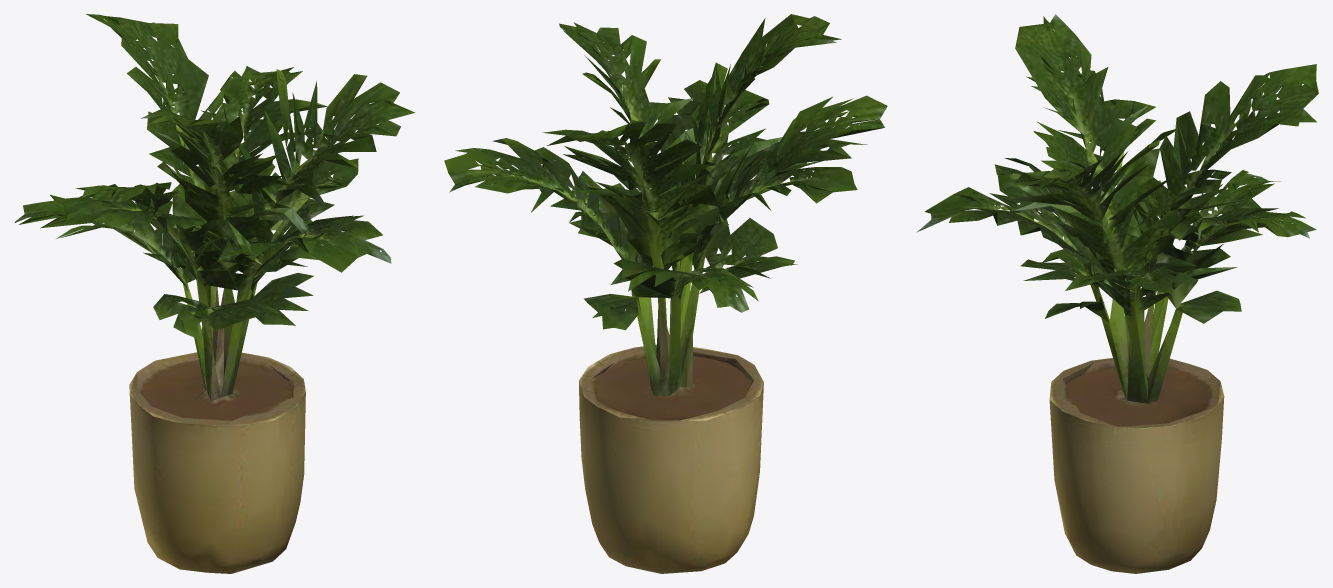
File: palm.glb
The picture shows the model from 3 angles, left to right: view 1: azimuth 30°, elevation 25°; view 2: azimuth 150°, elevation 25°; view 3: azimuth 270°, elevation 25°; orthographic projection. The views are drawn at different scales.
Parts seen in each view (by area): view 1: palm; view 2: palm; view 3: palm.
Part boxes in pixels (x1,y1,x2,y2): palm: [14, 14, 415, 573]; palm: [444, 14, 887, 573]; palm: [916, 14, 1318, 573].
Size of the model in its own units: 1.03 by 1.5 by 1.13.
Materials: 1 (1 with a texture image).
